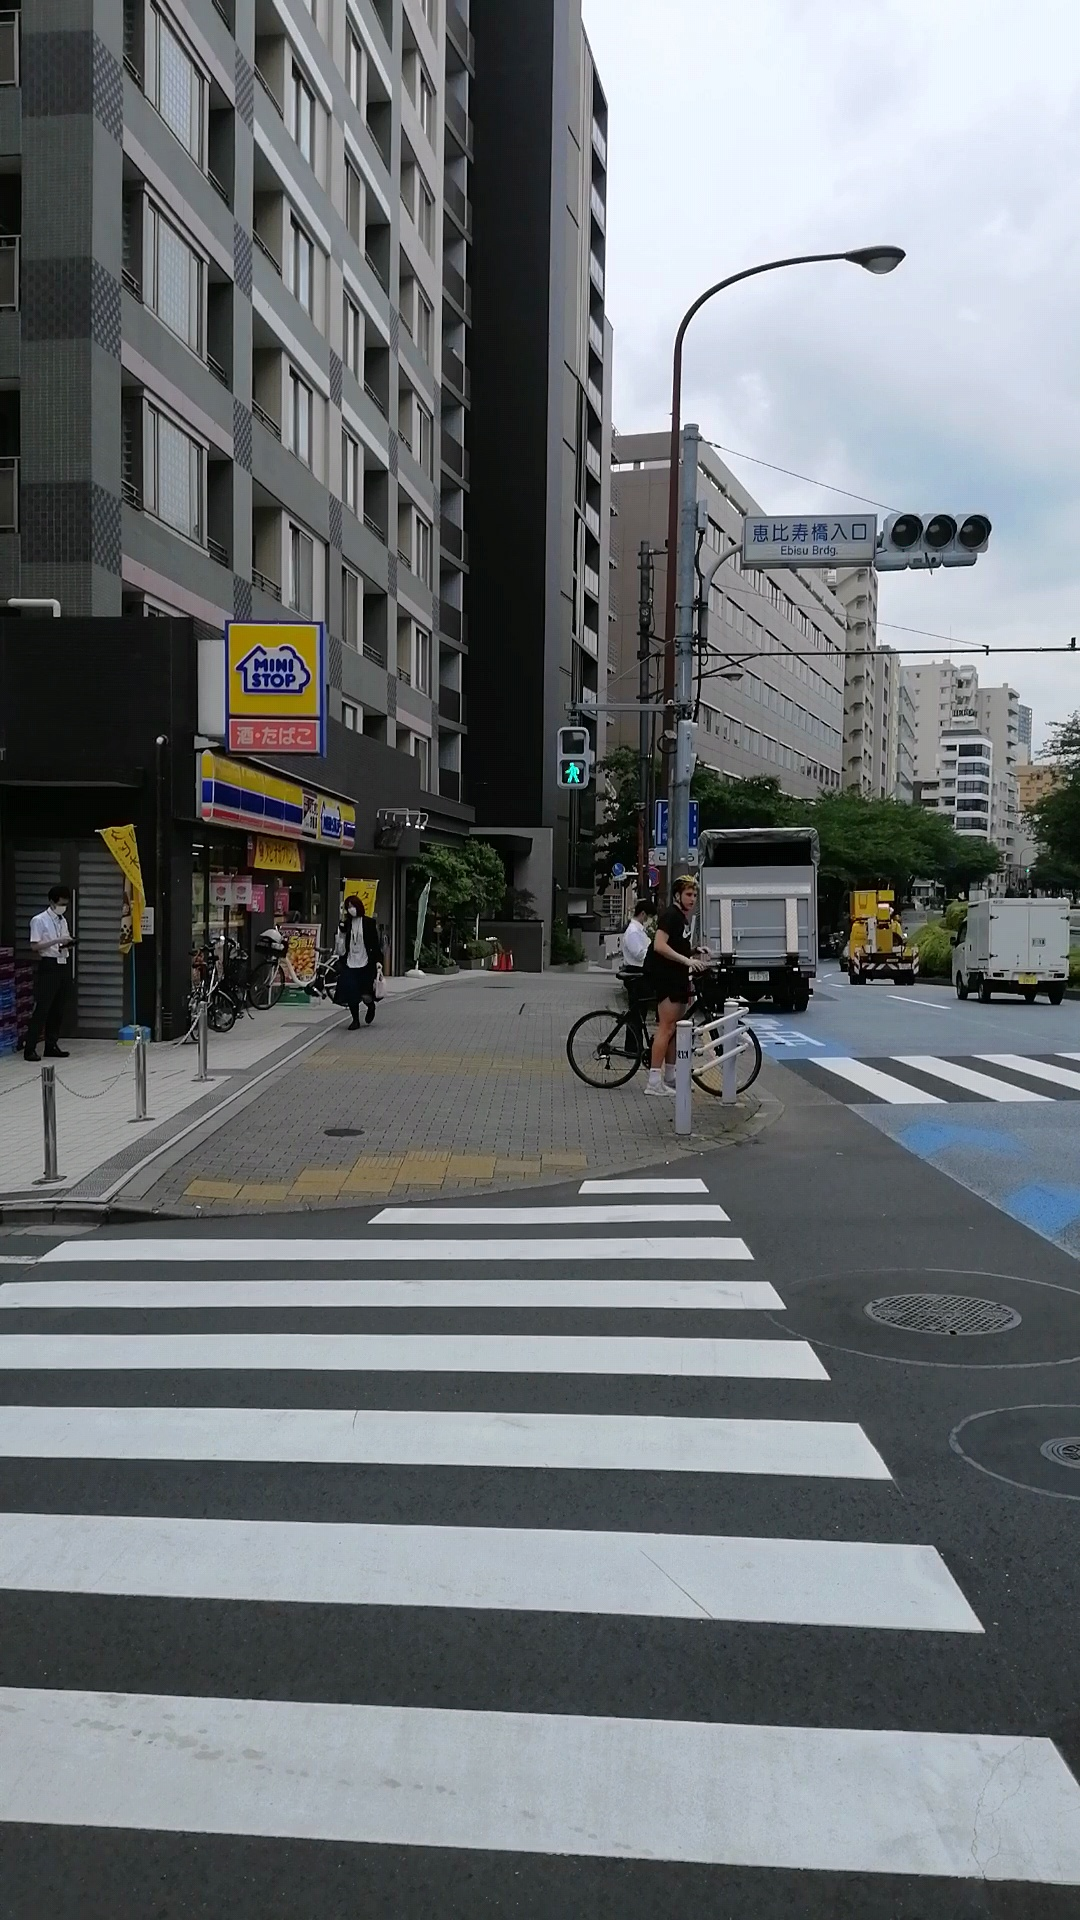green: (555, 725, 589, 786)
